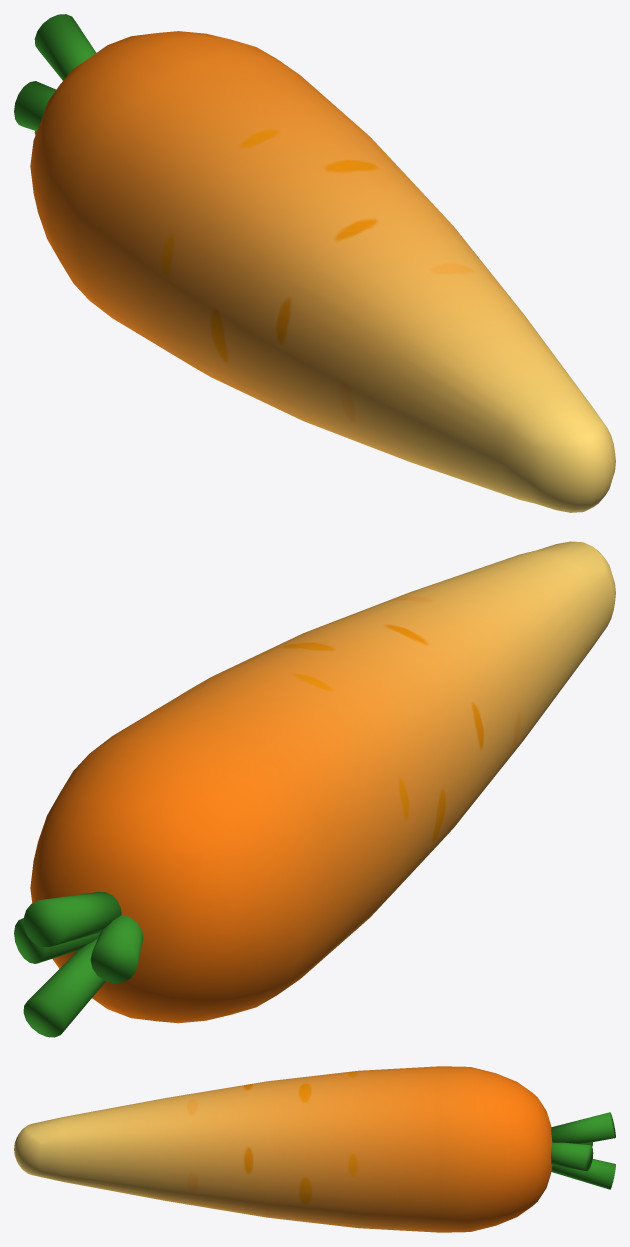
The model's file is Carrot.fbx.
The picture shows the model from 3 angles, top to bottom: view 1: azimuth 30°, elevation 25°; view 2: azimuth 150°, elevation 25°; view 3: azimuth 270°, elevation 25°; orthographic projection. The views are drawn at different scales.
Parts seen in each view (by area): view 1: Carrot; view 2: Carrot; view 3: Carrot.
Boxes of the visible parts, box(x1,y1,x2,y2) form: Carrot: box(14, 14, 615, 512); Carrot: box(14, 541, 615, 1037); Carrot: box(14, 1066, 615, 1232).
Bounding box in the file's own units: 23.33 × 23.33 × 85.38.
